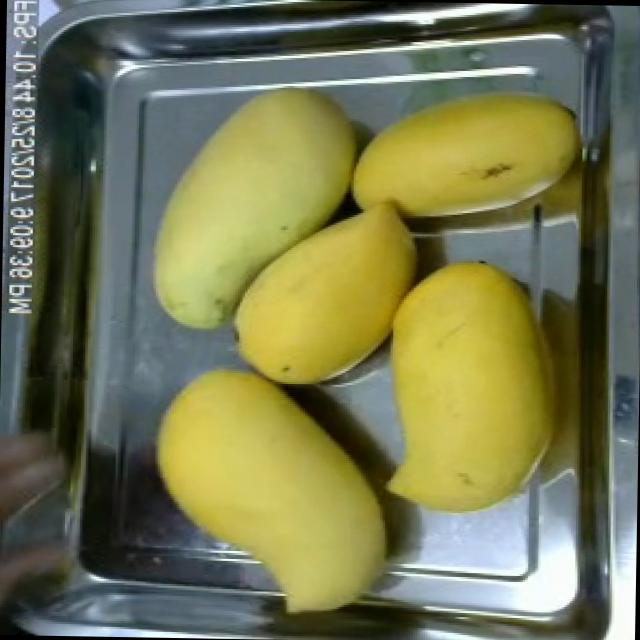fruit: (138, 352, 406, 626), (141, 73, 364, 345), (368, 248, 584, 528), (341, 76, 590, 228)
